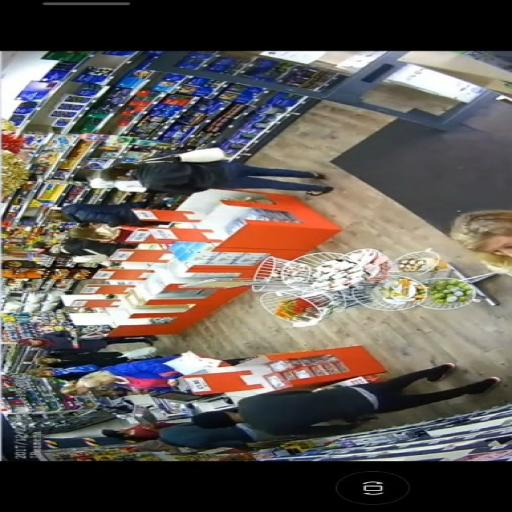workers: (57, 361, 187, 396), (28, 353, 129, 382), (50, 224, 122, 260)
